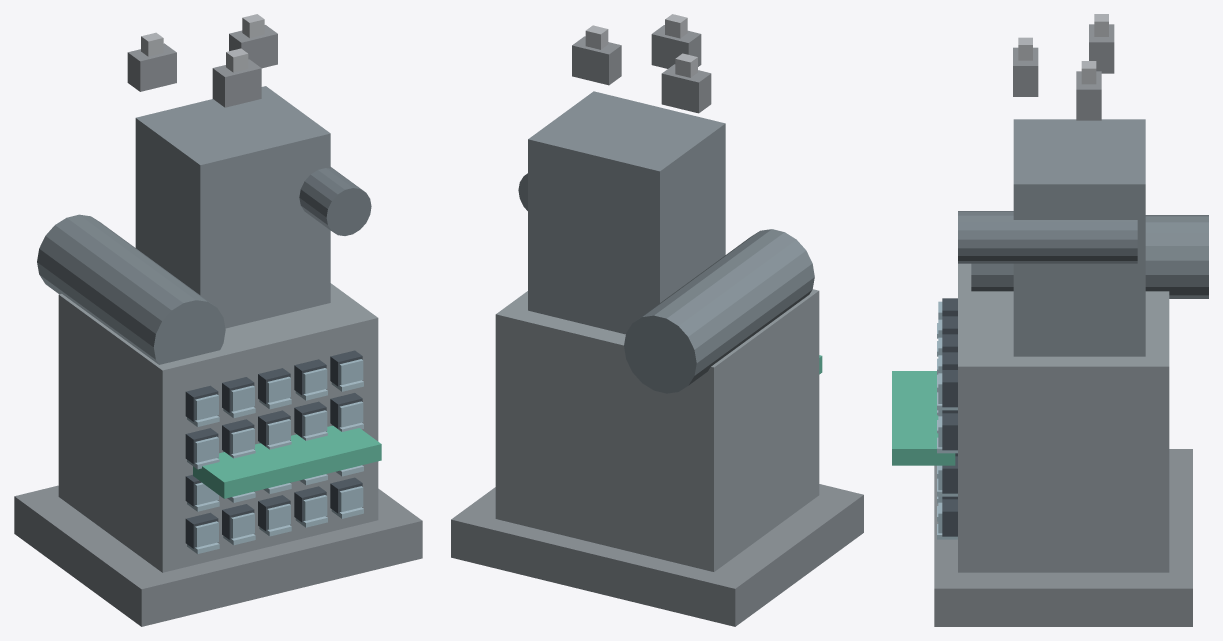
File: exchange.glb
The picture shows the model from 3 angles, left to right: view 1: azimuth 30°, elevation 25°; view 2: azimuth 150°, elevation 25°; view 3: azimuth 270°, elevation 25°; orthographic projection.
Visible parts, largest first — view 1: world; view 2: world; view 3: world.
Boxes of the visible parts, left/top/right/bottom form: world: left=14, top=14, right=422, bottom=626; world: left=451, top=14, right=863, bottom=626; world: left=892, top=14, right=1208, bottom=626.
Bounding box in the file's own units: 1.25 × 2.15 × 1.2.
